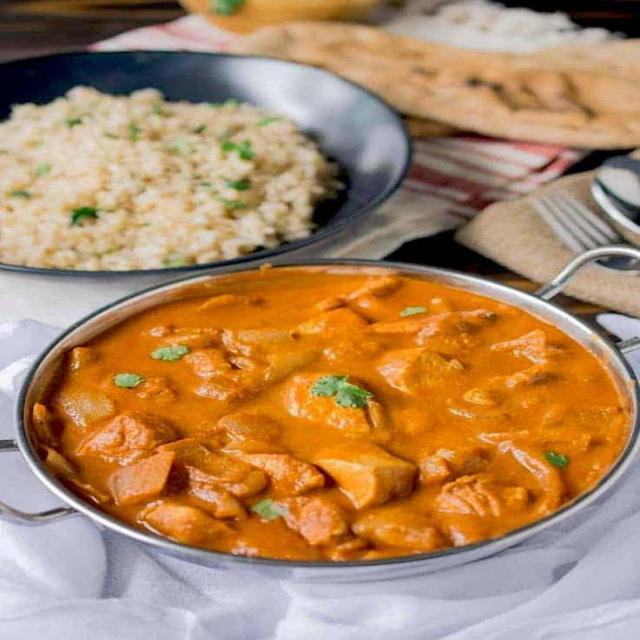chicken: (50, 290, 620, 543)
rice: (23, 84, 324, 267)
